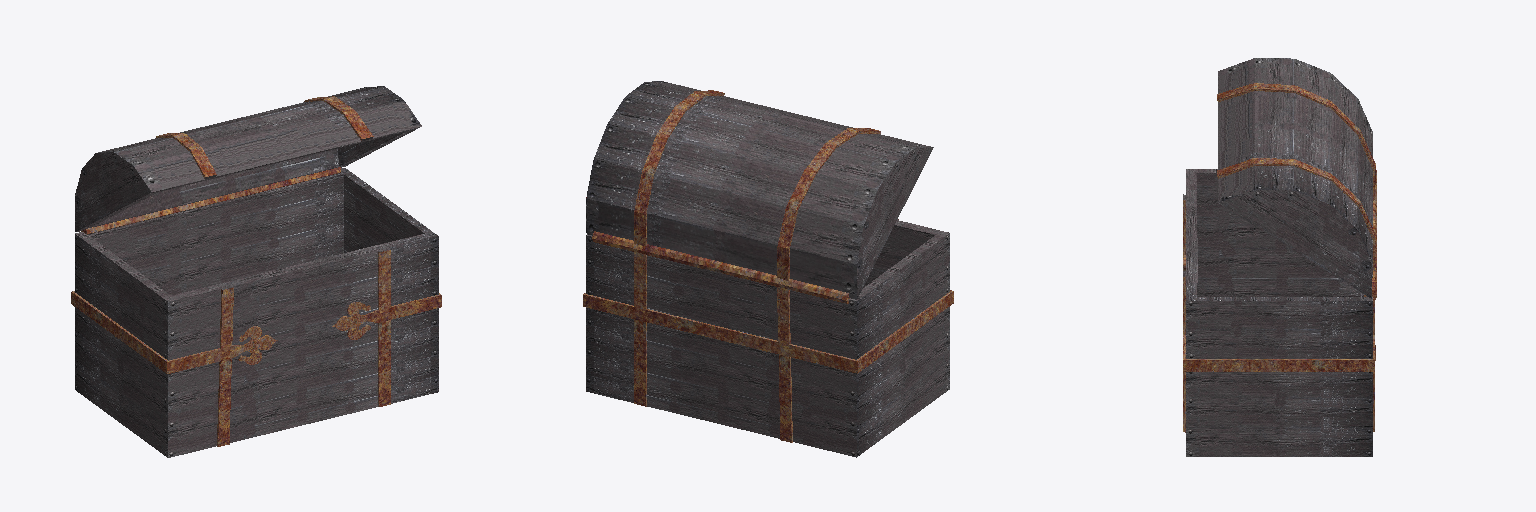
The picture shows the model from 3 angles: view 1: azimuth 30°, elevation 25°; view 2: azimuth 150°, elevation 25°; view 3: azimuth 270°, elevation 25°; orthographic projection.
Visible parts, largest first — view 1: Chest; view 2: Chest; view 3: Chest.
Part boxes in pixels (x1,y1,x2,y2): Chest: (71, 86, 441, 457); Chest: (583, 81, 953, 457); Chest: (1183, 58, 1376, 456).
Bounding box in the file's own units: 2.56 × 2.4 × 1.57.
1 materials, 1 textured.